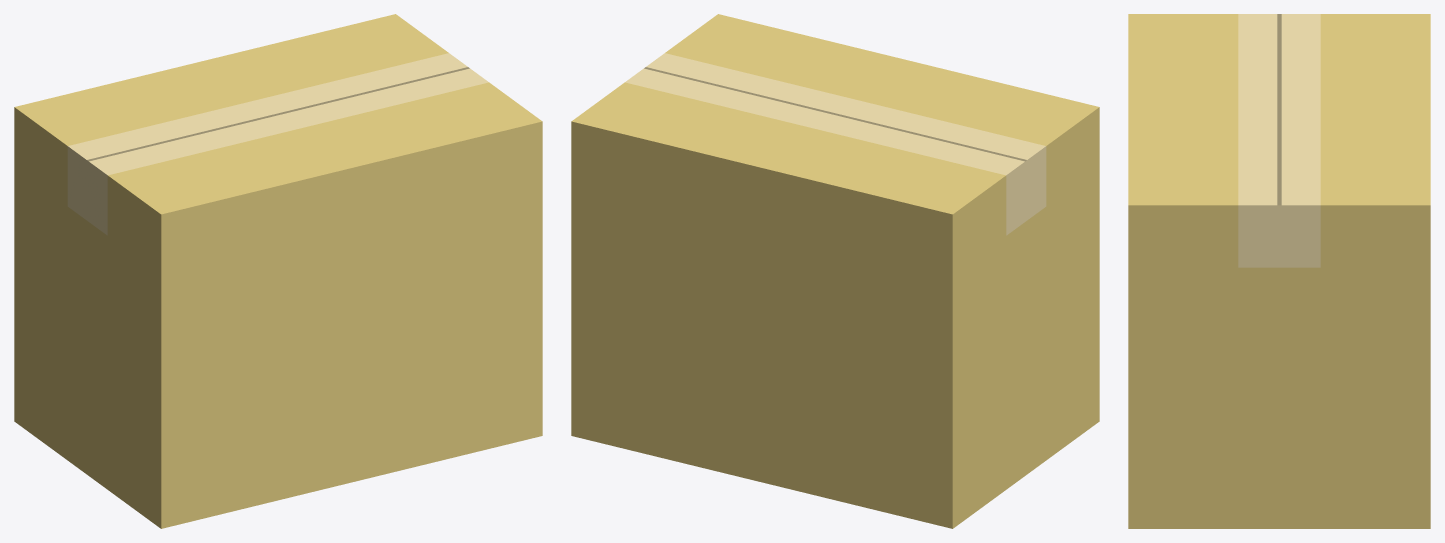
The model's file is cardboardBox.dae.
3 views of the same model, side by side, from view 1: azimuth 30°, elevation 25°; view 2: azimuth 150°, elevation 25°; view 3: azimuth 270°, elevation 25° (orthographic). The views are drawn at different scales.
Parts seen in each view (by area): view 1: SketchUp (×3); view 2: SketchUp (×3); view 3: SketchUp (×3).
Boxes of the visible parts, <box> form: SketchUp (×3): <box>14,14,542,528</box>; SketchUp (×3): <box>571,14,1099,528</box>; SketchUp (×3): <box>1128,14,1430,528</box>.
Bounding box in the file's own units: 12.99 × 8.66 × 10.24.
